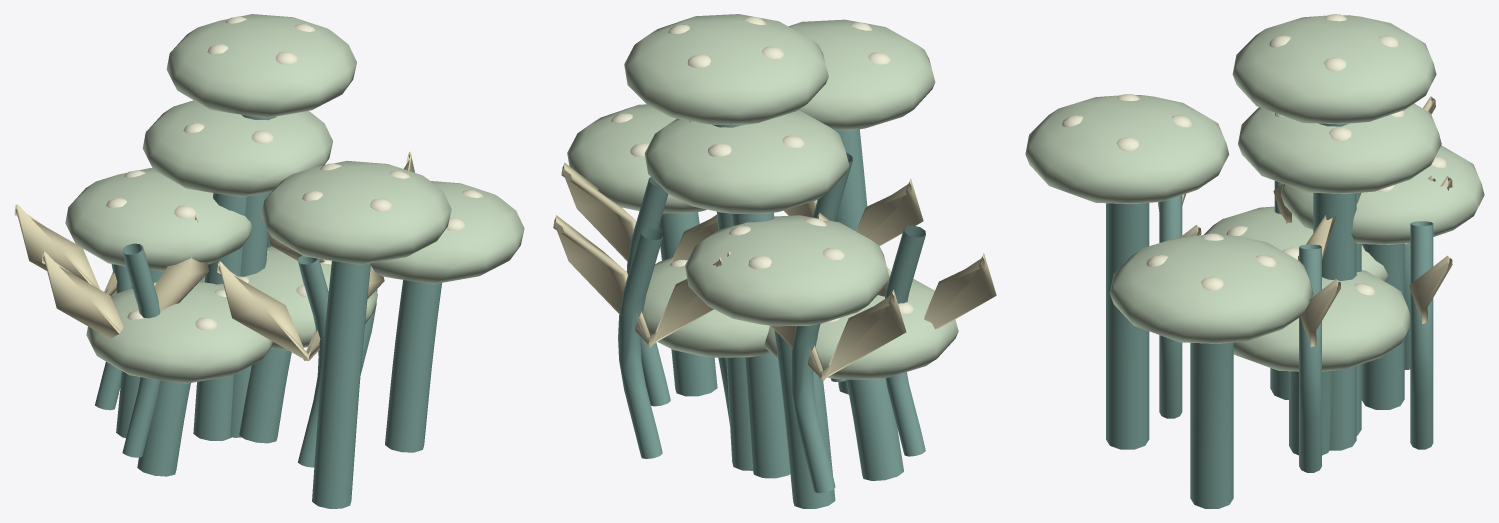
Rendered from bio_spore_fungus_07_far.glb.
3 renders of one model, left to right at view 1: azimuth 30°, elevation 25°; view 2: azimuth 150°, elevation 25°; view 3: azimuth 270°, elevation 25°, orthographic. The views are drawn at different scales.
Visible parts, largest first — view 1: Thick umbrella cap.003, Thick umbrella cap.002, Thick umbrella cap.006, Thick umbrella cap.001, Thick umbrella cap.004, Curved stipe.002, Thick umbrella cap.005, Curved stipe.005, Secondary fan lobe.008, Secondary fan lobe.004, Curved stipe.006, Curved stipe (+10 smaller); view 2: Thick umbrella cap.003, Thick umbrella cap.001, Thick umbrella cap.006, Thick umbrella cap.002, Thick umbrella cap.005, Thick umbrella cap.004, Branching support.003, Thick umbrella cap, Secondary fan lobe.006, Curved stipe.006, Curved stipe.004, Branching support.001 (+14 smaller); view 3: Thick umbrella cap.003, Thick umbrella cap.002, Thick umbrella cap.005, Thick umbrella cap.006, Thick umbrella cap, Curved stipe.002, Thick umbrella cap.001, Curved stipe.005, Curved stipe.003, Branching support.003, Branching support, Curved stipe.001 (+11 smaller).
Boxes of the visible parts, bbox=[...] form: Thick umbrella cap.003: bbox=[166, 14, 356, 118]; Thick umbrella cap.002: bbox=[261, 160, 451, 264]; Thick umbrella cap.006: bbox=[142, 100, 332, 197]; Thick umbrella cap.001: bbox=[65, 168, 251, 271]; Thick umbrella cap.004: bbox=[86, 281, 273, 383]; Curved stipe.002: bbox=[312, 261, 370, 508]; Thick umbrella cap.005: bbox=[371, 181, 524, 284]; Curved stipe.005: bbox=[385, 280, 441, 452]; Secondary fan lobe.008: bbox=[42, 214, 209, 338]; Secondary fan lobe.004: bbox=[217, 261, 384, 360]; Curved stipe.006: bbox=[193, 193, 246, 440]; Curved stipe: bbox=[239, 348, 291, 443]; Thick umbrella cap.003: bbox=[624, 14, 828, 124]; Thick umbrella cap.001: bbox=[685, 215, 889, 326]; Thick umbrella cap.006: bbox=[644, 110, 849, 213]; Thick umbrella cap.002: bbox=[788, 19, 935, 130]; Thick umbrella cap.005: bbox=[567, 104, 706, 213]; Thick umbrella cap.004: bbox=[764, 279, 958, 379]; Branching support.003: bbox=[618, 228, 662, 458]; Thick umbrella cap: bbox=[642, 257, 769, 357]; Secondary fan lobe.006: bbox=[553, 215, 722, 347]; Curved stipe.006: bbox=[732, 212, 790, 478]; Curved stipe.004: bbox=[846, 378, 903, 480]; Branching support.001: bbox=[790, 324, 835, 492]; Thick umbrella cap.003: bbox=[1232, 15, 1436, 124]; Thick umbrella cap.002: bbox=[1025, 95, 1229, 203]; Thick umbrella cap.005: bbox=[1110, 234, 1313, 343]; Thick umbrella cap.006: bbox=[1238, 103, 1441, 193]; Thick umbrella cap: bbox=[1233, 270, 1410, 371]; Curved stipe.002: bbox=[1106, 203, 1149, 449]; Thick umbrella cap.001: bbox=[1280, 145, 1484, 244]; Curved stipe.005: bbox=[1190, 342, 1233, 508]; Curved stipe.003: bbox=[1313, 123, 1356, 450]; Branching support.003: bbox=[1410, 221, 1433, 449]; Branching support: bbox=[1299, 244, 1321, 472]; Curved stipe.001: bbox=[1361, 243, 1404, 409].
Size of the model in its own units: 2.05 by 1.82 by 1.8.
